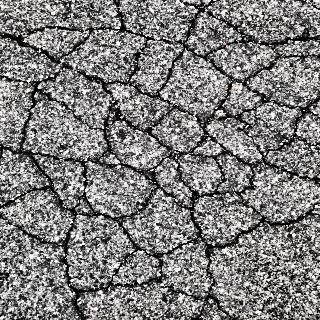alligator-crack: (4, 0, 320, 320)
